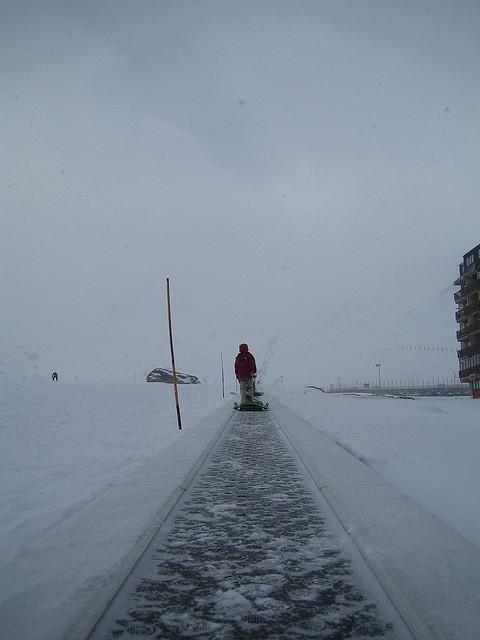car: (147, 368, 200, 384)
